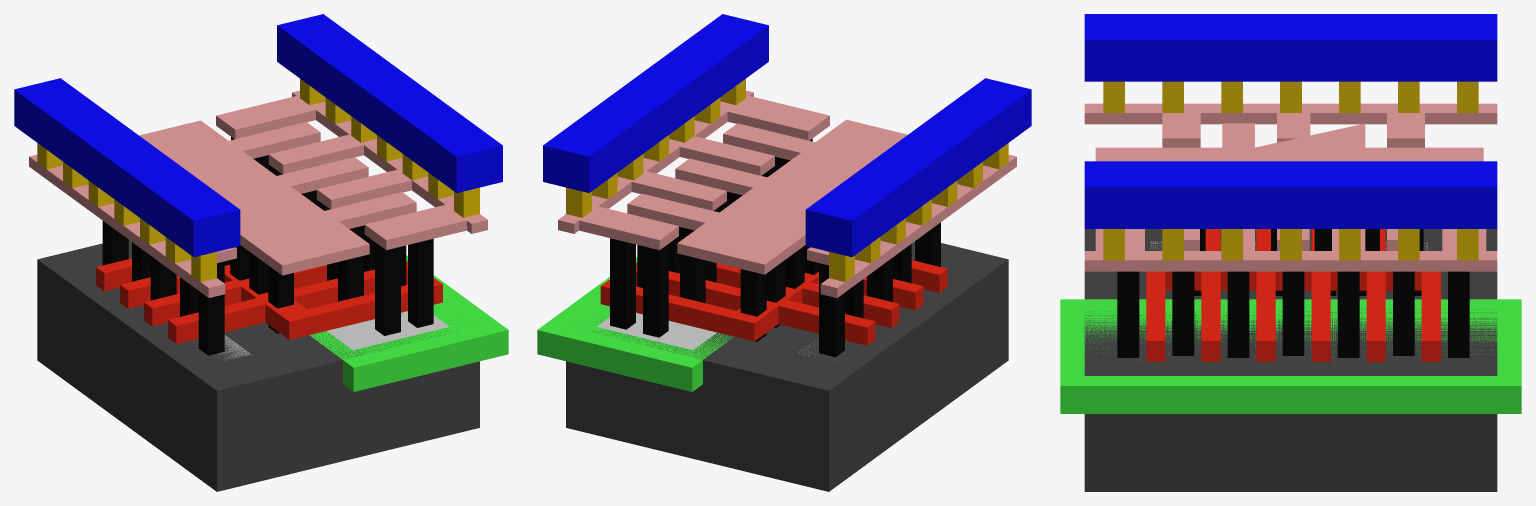
The model's file is sky130_fd_sc_hd__clkinv_4.obj.
3 views of the same model, side by side, from view 1: azimuth 30°, elevation 25°; view 2: azimuth 150°, elevation 25°; view 3: azimuth 270°, elevation 25° (orthographic). The views are drawn at different scales.
Visible parts, largest first — view 1: subs, li, metal1, licon, poly, nwell, mcon, tap; view 2: subs, li, metal1, licon, poly, nwell, mcon, tap; view 3: metal1, subs, li, nwell, licon, poly, mcon.
Part boxes in pixels (x1,y1,x2,y2): subs: [37, 240, 479, 491]; li: [29, 90, 487, 297]; metal1: [14, 14, 502, 257]; licon: [102, 137, 433, 355]; poly: [96, 258, 442, 343]; nwell: [309, 255, 508, 391]; mcon: [37, 79, 479, 281]; tap: [327, 311, 449, 350]; subs: [566, 241, 1008, 491]; li: [558, 90, 1016, 297]; metal1: [543, 14, 1031, 257]; licon: [610, 138, 940, 357]; poly: [600, 260, 947, 345]; nwell: [537, 257, 734, 391]; mcon: [566, 79, 1008, 281]; tap: [596, 313, 716, 350]; metal1: [1084, 14, 1497, 228]; subs: [1084, 229, 1497, 491]; li: [1084, 103, 1497, 271]; nwell: [1060, 299, 1521, 413]; licon: [1117, 229, 1469, 357]; poly: [1146, 229, 1440, 361]; mcon: [1103, 81, 1478, 260].
Bounding box in the file's own units: 3.2 × 2.74 × 3.6.
